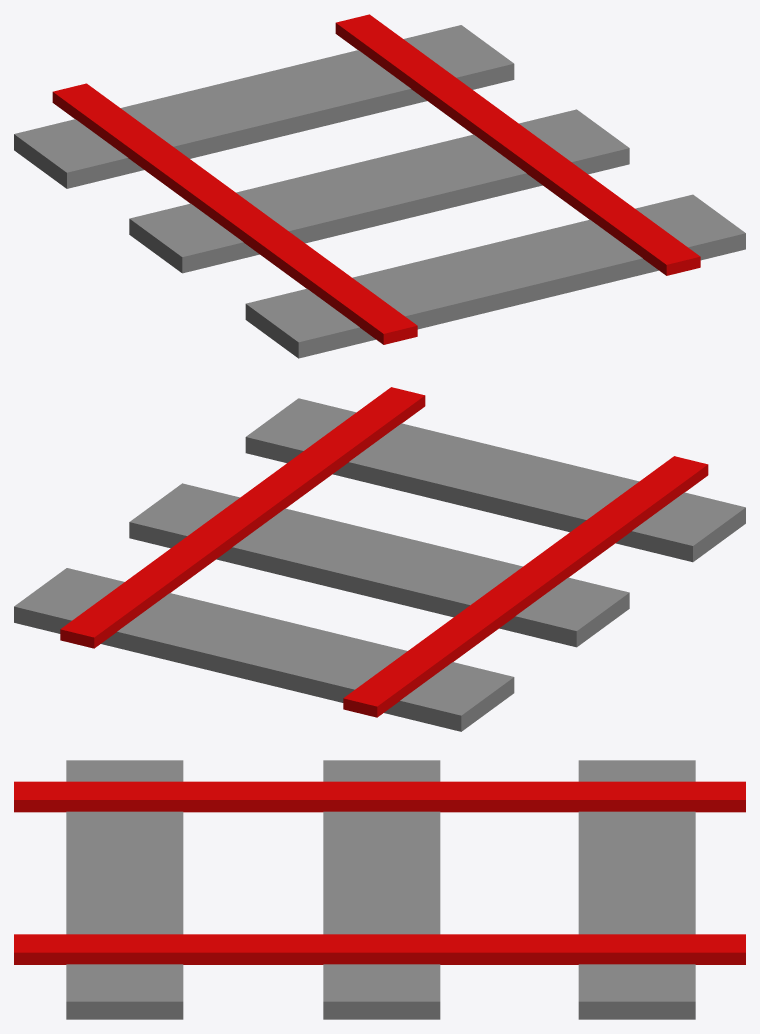
File: thanh_ray.fbx
3 renders of one model, top to bottom at view 1: azimuth 30°, elevation 25°; view 2: azimuth 150°, elevation 25°; view 3: azimuth 270°, elevation 25°, orthographic. The views are drawn at different scales.
Visible parts, largest first — view 1: pCube6; view 2: pCube6; view 3: pCube6.
Part boxes in pixels (x1=…): pCube6: x1=14, y1=14, x2=745, y2=358; pCube6: x1=14, y1=387, x2=745, y2=731; pCube6: x1=14, y1=760, x2=745, y2=1019.
Size of the model in its own units: 65.56 by 3.77 by 84.
